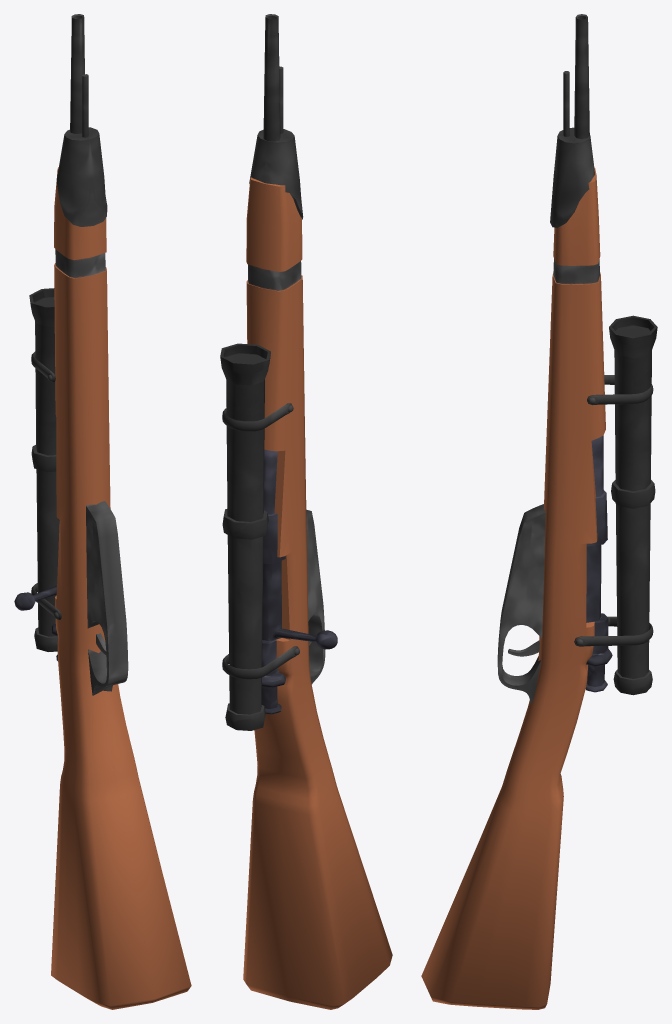
Rendered from Sniper.fbx.
3 views of the same model, side by side, from view 1: azimuth 30°, elevation 25°; view 2: azimuth 150°, elevation 25°; view 3: azimuth 270°, elevation 25° (orthographic). The views are drawn at different scales.
Visible parts, largest first — view 1: Sniper; view 2: Sniper; view 3: Sniper.
Boxes of the visible parts, x1,y1,x2,y2 form: Sniper: [14, 14, 191, 1009]; Sniper: [220, 14, 392, 1009]; Sniper: [421, 14, 657, 1009].
Size of the model in its own units: 0.1619 by 1.32 by 0.2897.
